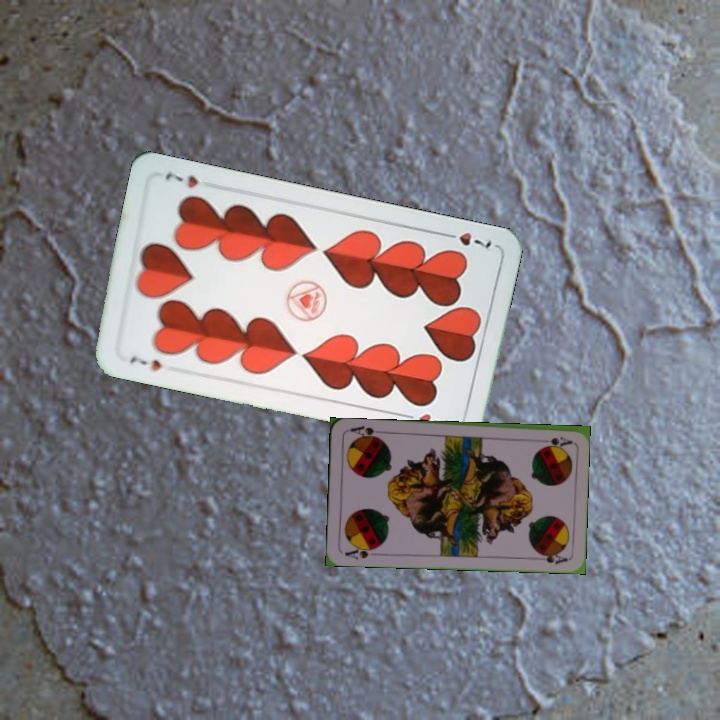H7: (438, 228, 494, 251), (125, 352, 164, 374)
SA: (341, 542, 381, 562), (533, 433, 573, 448)
